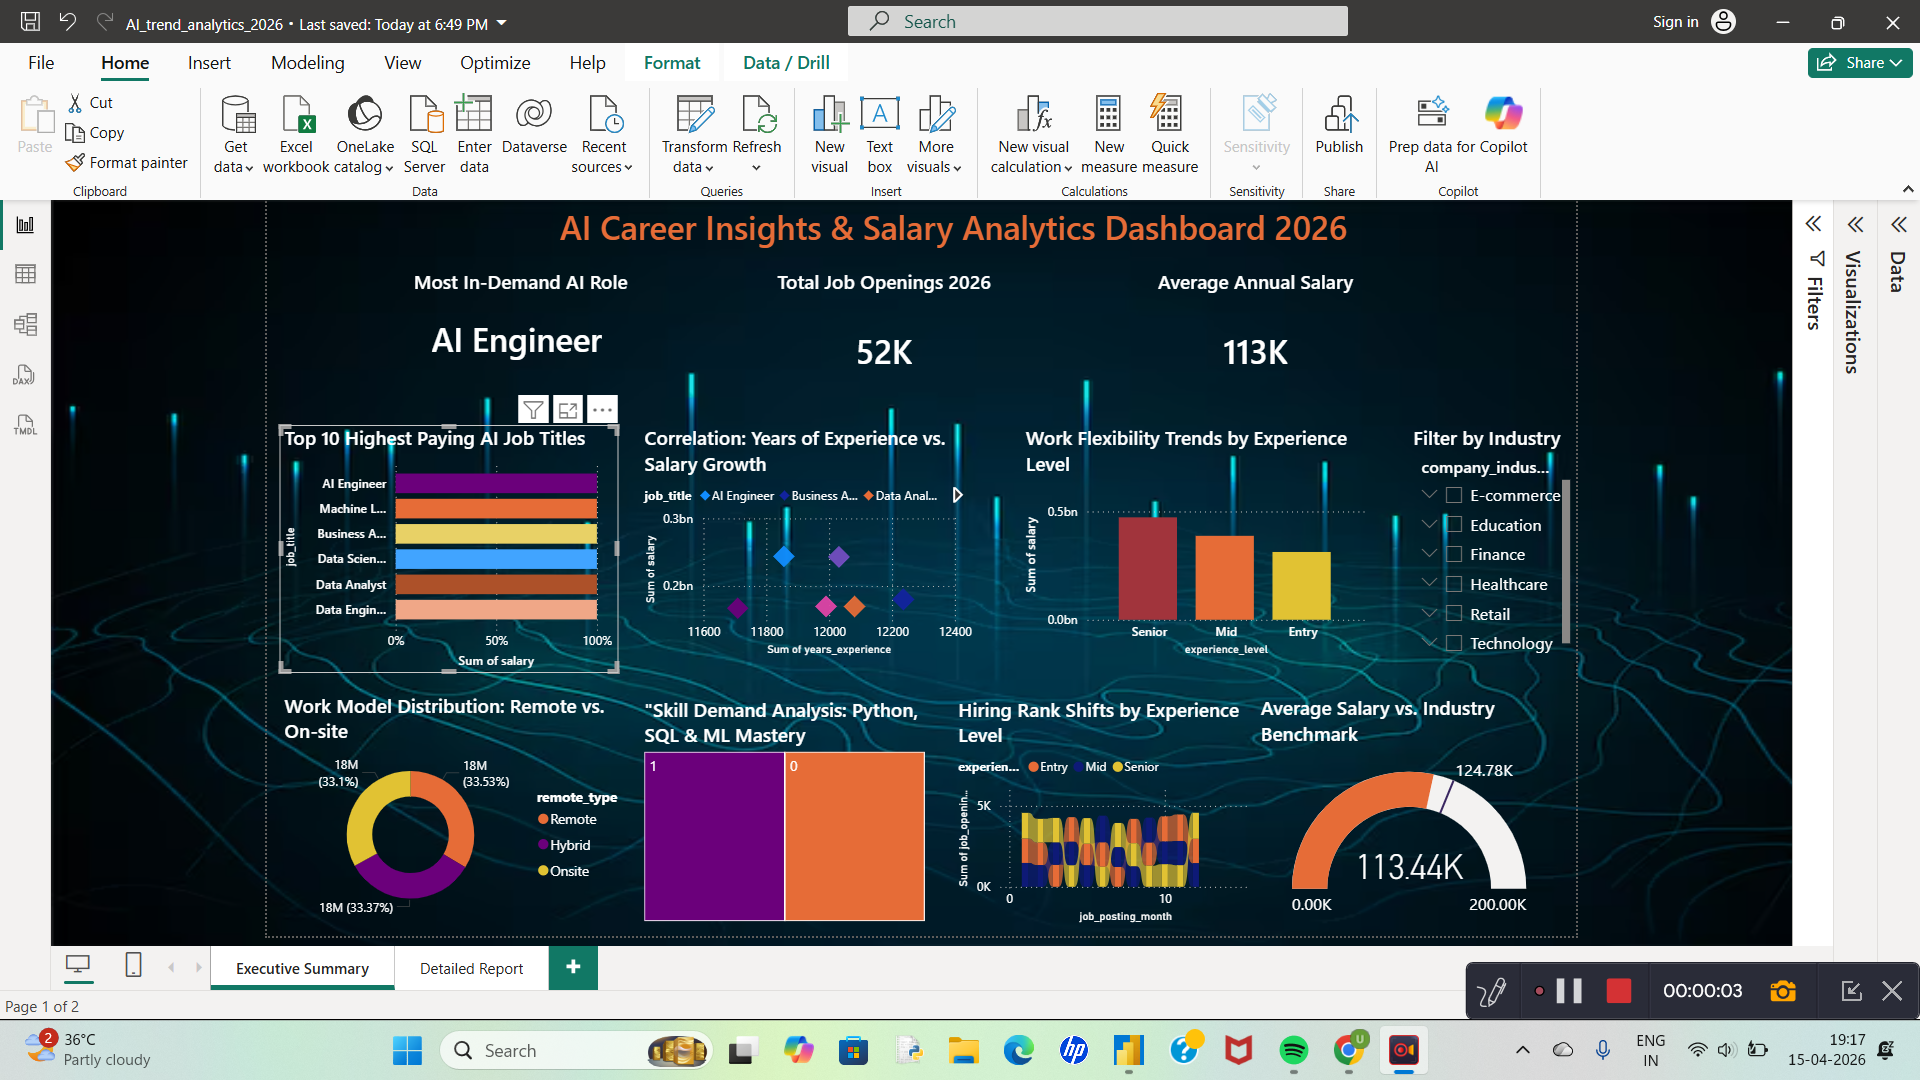

This screenshot's page, from the dashboard's own definition file:
{"tool":"powerbi","page":{"name":"Executive Summary","canvas":[1280,720],"ordinal":0},"visuals":[{"type":"hundredPercentStackedBarChart","title":"Top 10 Highest Paying AI Job Titles","fields":{"Category":["Final_AI_Project_Data.job_title"],"Y":["Sum(Final_AI_Project_Data.salary)"]},"box":[12.3,219.6,330.7,242.9],"z":0},{"type":"donutChart","title":"Work Model Distribution: Remote vs. On-site","fields":{"Category":["Final_AI_Project_Data.remote_type"],"Y":["Sum(Final_AI_Project_Data.job_id)"]},"box":[12.3,481.6,352.7,229.2],"z":1000},{"type":"columnChart","title":"Work Flexibility Trends by Experience Level","fields":{"Category":["Final_AI_Project_Data.experience_level"],"Y":["Sum(Final_AI_Project_Data.salary)"]},"box":[736.9,219.6,341.7,230.5],"z":2000},{"type":"slicer","title":"Filter by Industry","fields":{"Values":["Final_AI_Project_Data.company_industry","Final_AI_Project_Data.country"]},"box":[1117,219.6,163.3,230.5],"z":3000},{"type":"treemap","title":"\"Skill Demand Analysis: Python, SQL & ML Mastery","fields":{"Group":["Final_AI_Project_Data.skills_python","Final_AI_Project_Data.skills_ml","Final_AI_Project_Data.skills_sql","Final_AI_Project_Data.skills_deep_learning","Final_AI_Project_Data.skills_cloud"],"Values":["Avg(Final_AI_Project_Data.salary)"]},"box":[365,485.8,284,225],"z":4000},{"type":"scatterChart","title":"Correlation: Years of Experience vs. Salary Growth","fields":{"X":["Sum(Final_AI_Project_Data.years_experience)"],"Y":["Sum(Final_AI_Project_Data.salary)"],"Series":["Final_AI_Project_Data.job_title"],"Size":["Sum(Final_AI_Project_Data.job_openings)"]},"box":[365,219.6,330.7,230.5],"z":5000},{"type":"ribbonChart","title":"Hiring Rank Shifts by Experience Level","fields":{"Category":["Final_AI_Project_Data.job_posting_month"],"Y":["Sum(Final_AI_Project_Data.job_openings)"],"Series":["Final_AI_Project_Data.experience_level"]},"box":[671,485.8,296.4,226.4],"z":6000},{"type":"gauge","title":"Average Salary vs. Industry Benchmark","fields":{"Y":["Avg(Final_AI_Project_Data.salary)"],"TargetValue":["Final_AI_Project_Data.Dynamic Target"]},"box":[967.4,484.4,300.5,226.4],"z":7000},{"type":"cardVisual","title":"Most In-Demand AI Role","fields":{"Data":["Min(Final_AI_Project_Data.job_title)"]},"box":[130.4,67.2,234.6,133.1],"z":8000},{"type":"cardVisual","title":"Total Job Openings 2026","fields":{"Data":["Sum(Final_AI_Project_Data.job_openings)"]},"box":[483,67.2,241.5,133.1],"z":9000},{"type":"cardVisual","title":"Average Annual Salary","fields":{"Data":["Final_AI_Project_Data.Average Salary"]},"box":[856.3,67.2,222.3,133.1],"z":10000},{"type":"textbox","box":[225,0,893.3,67.2],"z":11000}]}

Visuals, with their boxes on the page's 1280x720 design canvas (x1, y1, x2, y2). These are canvas units, not pixel positions in the 1920x1080 screenshot, which may show the page scaled, cropped or inside an application window:
"Top 10 Highest Paying AI Job Titles" hundredPercentStackedBarChart: pyautogui.locateOnScreen(12, 220, 343, 462)
"Work Model Distribution: Remote vs. On-site" donutChart: pyautogui.locateOnScreen(12, 482, 365, 711)
"Work Flexibility Trends by Experience Level" columnChart: pyautogui.locateOnScreen(737, 220, 1079, 450)
"Filter by Industry" slicer: pyautogui.locateOnScreen(1117, 220, 1280, 450)
""Skill Demand Analysis: Python, SQL & ML Mastery" treemap: pyautogui.locateOnScreen(365, 486, 649, 711)
"Correlation: Years of Experience vs. Salary Growth" scatterChart: pyautogui.locateOnScreen(365, 220, 696, 450)
"Hiring Rank Shifts by Experience Level" ribbonChart: pyautogui.locateOnScreen(671, 486, 967, 712)
"Average Salary vs. Industry Benchmark" gauge: pyautogui.locateOnScreen(967, 484, 1268, 711)
"Most In-Demand AI Role" cardVisual: pyautogui.locateOnScreen(130, 67, 365, 200)
"Total Job Openings 2026" cardVisual: pyautogui.locateOnScreen(483, 67, 724, 200)
"Average Annual Salary" cardVisual: pyautogui.locateOnScreen(856, 67, 1079, 200)
textbox: pyautogui.locateOnScreen(225, 0, 1118, 67)
